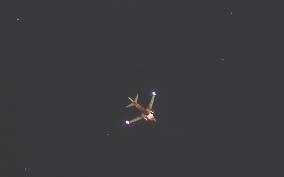Plane: (100, 75, 183, 134)
